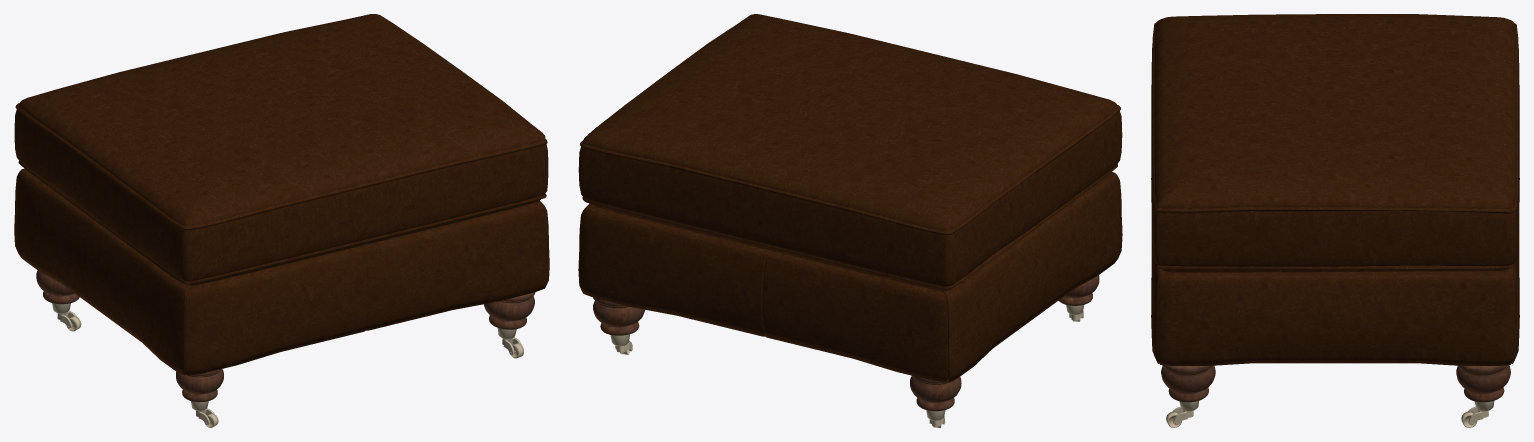
Rendered from sofa_B07B4N26S5.glb.
3 views of the same model, side by side, from view 1: azimuth 30°, elevation 25°; view 2: azimuth 150°, elevation 25°; view 3: azimuth 270°, elevation 25° (orthographic). The views are drawn at different scales.
Visible parts, largest first — view 1: RootNode; view 2: RootNode; view 3: RootNode.
Boxes of the visible parts, left/top/right/bottom form: RootNode: left=14, top=14, right=549, bottom=427; RootNode: left=578, top=14, right=1122, bottom=427; RootNode: left=1151, top=14, right=1519, bottom=427.
Bounding box in the file's own units: 1.19 × 0.7304 × 0.9667.
Materials: 1 (1 with a texture image).
